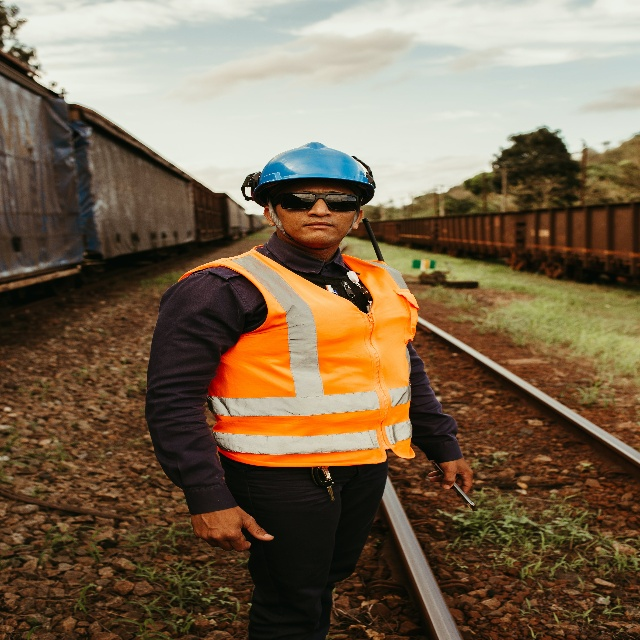Gafas: (432, 460, 477, 512), (272, 190, 359, 212)
Sin_guantes: (191, 504, 274, 552), (428, 456, 473, 498)
